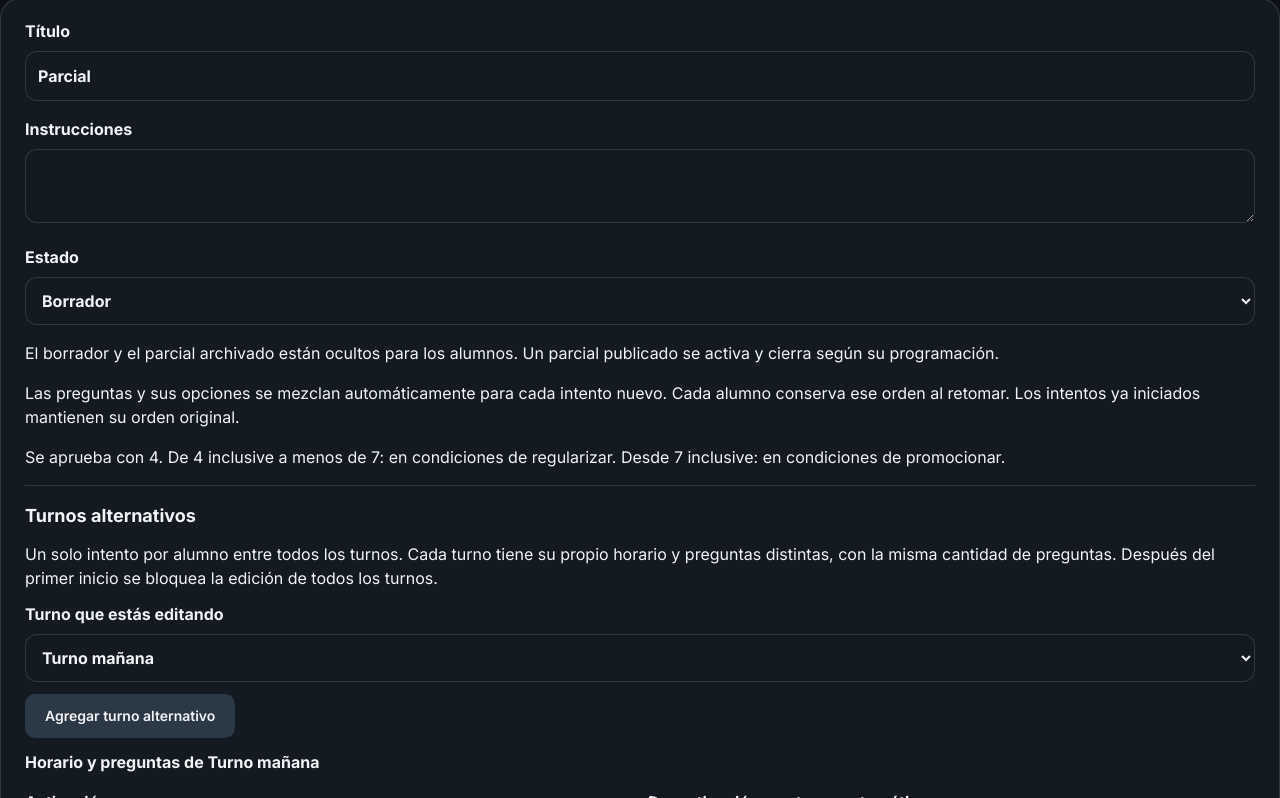
Scenario: valida los turnos que no están a la vista antes de publicar
This screenshot has width=1280, height=798.
Step 1. Select "Publicado" in the dropdown labelled "Estado" → (640, 301), box [25,277,1255,325]
(page scrolled)
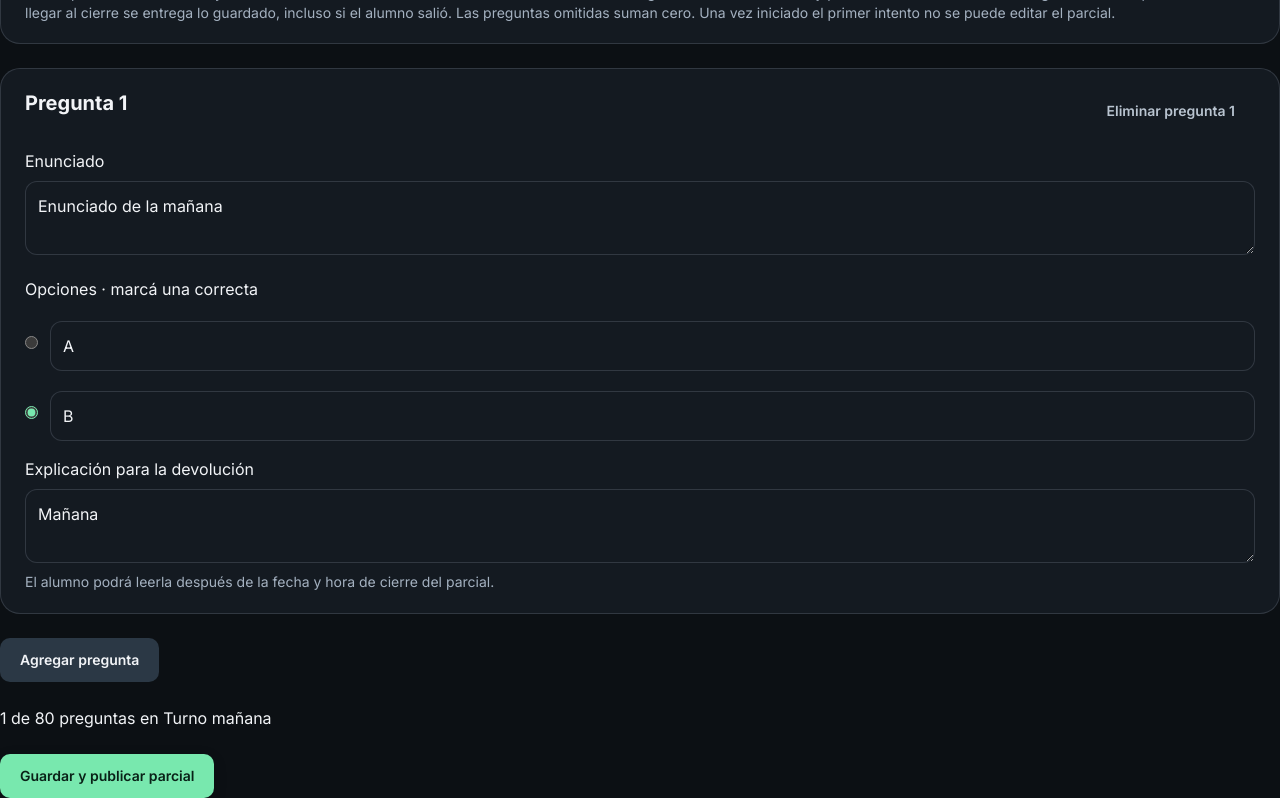
Step 2. Click the button "Guardar y publicar parcial" → click(107, 776), box [0,754,214,797]
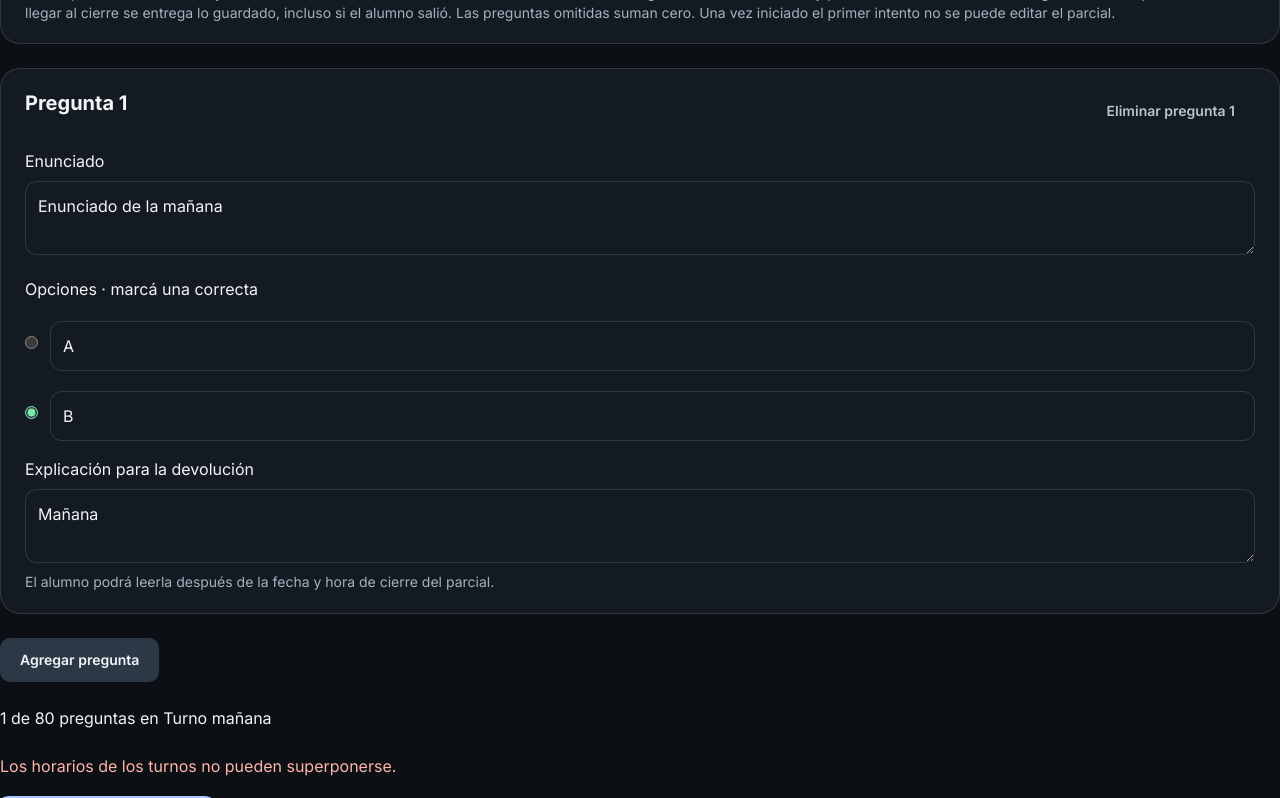
Expected: the message shows "superponerse", [0,756,396,776]
